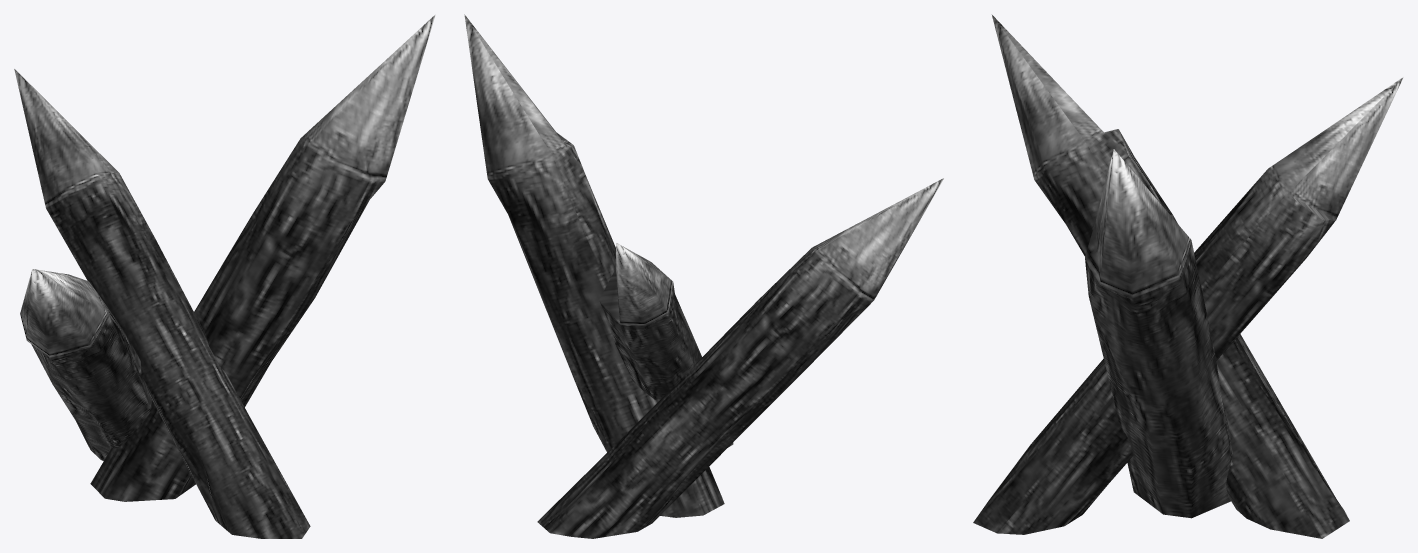
Rendered from StreetDeko_Spikes.FBX.
3 views of the same model, side by side, from view 1: azimuth 30°, elevation 25°; view 2: azimuth 150°, elevation 25°; view 3: azimuth 270°, elevation 25° (orthographic). The views are drawn at different scales.
Parts seen in each view (by area): view 1: StreetDeko_Spikes; view 2: StreetDeko_Spikes; view 3: StreetDeko_Spikes.
Part boxes in pixels (x1=…): StreetDeko_Spikes: x1=14, y1=14, x2=435, y2=538; StreetDeko_Spikes: x1=464, y1=14, x2=943, y2=538; StreetDeko_Spikes: x1=973, y1=14, x2=1403, y2=538.
Bounding box in the file's own units: 161 × 145 × 117.
